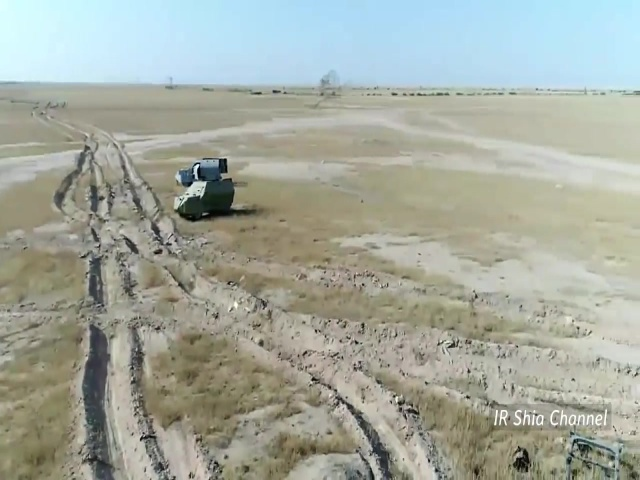vehicle: (172, 177, 237, 222), (174, 155, 228, 185)
